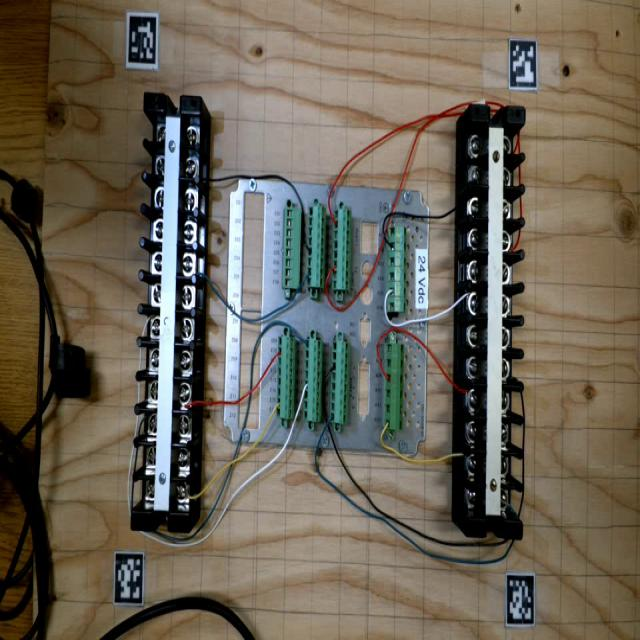Flathead_Block: (466, 105, 526, 539)
Phillips_Block: (130, 93, 202, 533)
Terminal_1: (384, 343, 404, 430), (387, 227, 406, 312)
Terminal_2: (330, 341, 350, 424), (306, 206, 326, 289), (277, 336, 296, 419), (304, 339, 323, 422), (332, 208, 351, 291)
